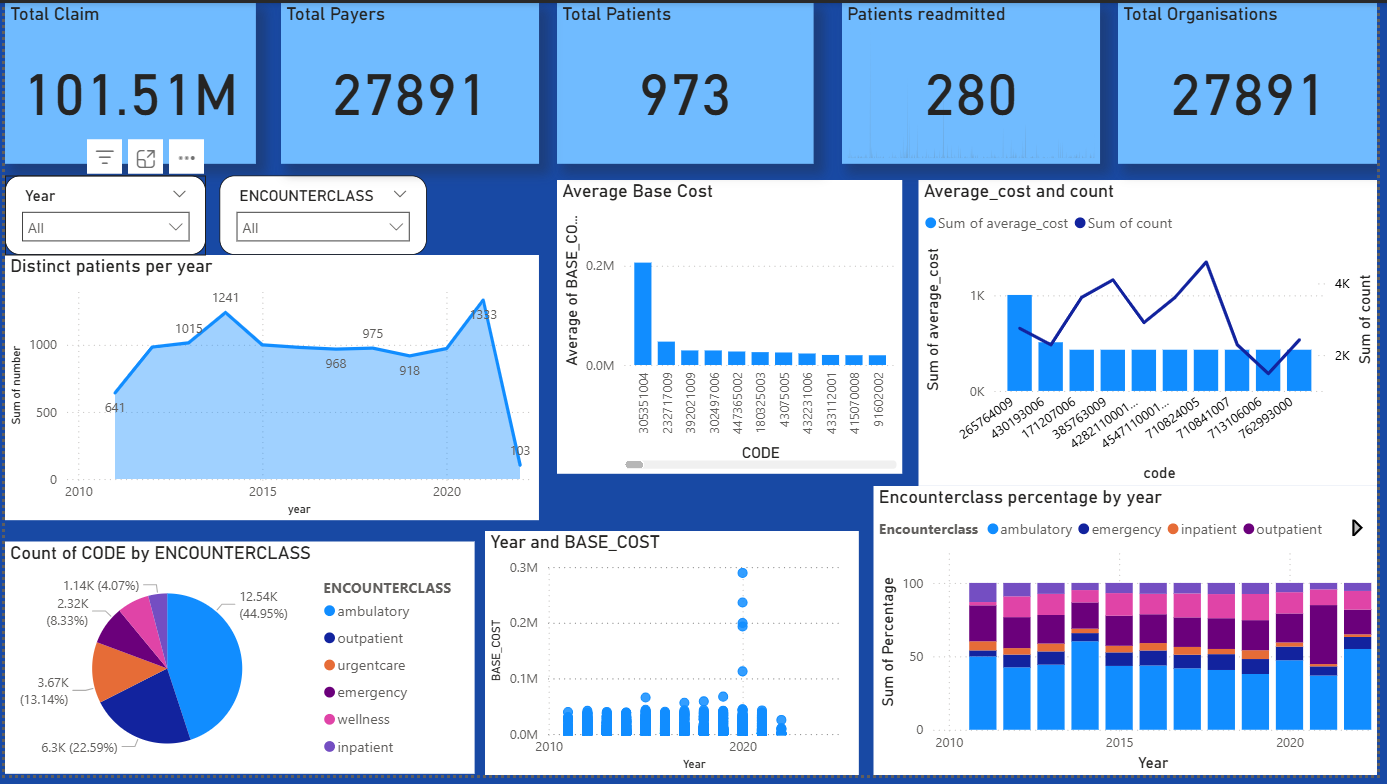

The page's visual inventory and layout, read from the dashboard file:
{"tool":"powerbi","page":{"name":"Page 1","canvas":[1280,720],"ordinal":0},"visuals":[{"type":"columnChart","title":"Encounterclass percentage by year","fields":{"Y":["Sum(Query1.Percentage)"],"Category":["Query1.Year"],"Series":["Query1.Encounterclass"]},"box":[810,450.5,470.1,270],"z":0},{"type":"lineStackedColumnComboChart","title":"Average_cost and count ","fields":{"Category":["Query3.code"],"Y2":["Sum(Query3.count)"],"Y":["Sum(Query3.average_cost)"]},"box":[852,165.1,428.1,285.4],"z":1000},{"type":"areaChart","title":"Distinct patients per year","fields":{"Y":["Sum(Query4.number)"],"Category":["Query4.year"]},"box":[0,235,498,247.6],"z":2000},{"type":"kpi","title":"Patients readmitted","fields":{"Indicator":["Sum(Query5.readmin_count)"],"TrendLine":["Query5.Patient_ID"]},"box":[780.6,0,240.6,149.7],"z":3000},{"type":"pieChart","title":"Encounters by Encounterclass","fields":{"Category":["encounters.ENCOUNTERCLASS"],"Y":["CountNonNull(encounters.CODE)"]},"box":[0,502.2,437.9,216.8],"z":4000},{"type":"kpi","title":"Total Claim","fields":{"Indicator":["Sum(encounters.TOTAL_CLAIM_COST)"],"TrendLine":["encounters.STOP.Variation.Date Hierarchy.Year"]},"box":[0,0,233.7,150],"z":5000},{"type":"scatterChart","fields":{"Y":["procedures.BASE_COST"],"X":["procedures.START.Variation.Date Hierarchy.Year","procedures.START.Variation.Date Hierarchy.Quarter","procedures.START.Variation.Date Hierarchy.Month","procedures.START.Variation.Date Hierarchy.Day"]},"box":[447.7,492.4,348.3,228],"z":6000},{"type":"slicer","fields":{"Values":["encounters.ENCOUNTERCLASS"]},"box":[200.1,160.9,193.1,74.1],"z":7000},{"type":"slicer","fields":{"Values":["procedures.START.Variation.Date Hierarchy.Year"]},"box":[0,160.9,187.5,74.1],"z":8000},{"type":"clusteredColumnChart","title":"Average Base Cost","fields":{"Y":["Avg(procedures.BASE_COST)"],"Category":["procedures.CODE"]},"box":[514.8,165.1,321.8,274.2],"z":9000},{"type":"kpi","title":"Total Patients","fields":{"Indicator":["Count(patients.Id)"],"TrendLine":["procedures.START.Variation.Date Hierarchy.Year"]},"box":[514.8,0,239.2,149.7],"z":10000},{"type":"kpi","title":"Total Payers","fields":{"Indicator":["CountNonNull(encounters.PAYER)"],"TrendLine":["procedures.START.Variation.Date Hierarchy.Year"]},"box":[257.4,0,240.6,149.7],"z":11000},{"type":"kpi","title":"Total Organisations","fields":{"Indicator":["CountNonNull(encounters.ORGANIZATION)"],"TrendLine":["procedures.START.Variation.Date Hierarchy.Year"]},"box":[1037.4,0,243.2,150],"z":12000}]}

Visuals, with their boxes in screenshot pixels (x1, y1, x2, y2), scaled from the page's 1280x720 canvas onto the 1387x784 screenshot:
"Encounterclass percentage by year" columnChart: [x1=878, y1=491, x2=1386, y2=783]
"Average_cost and count " lineStackedColumnComboChart: [x1=923, y1=180, x2=1386, y2=491]
"Distinct patients per year" areaChart: [x1=0, y1=256, x2=540, y2=525]
"Patients readmitted" kpi: [x1=846, y1=0, x2=1107, y2=163]
"Encounters by Encounterclass" pieChart: [x1=0, y1=547, x2=475, y2=783]
"Total Claim" kpi: [x1=0, y1=0, x2=253, y2=163]
scatterChart - procedures.BASE_COST x procedures.START.Variation.Date Hierarchy.Year: [x1=485, y1=536, x2=863, y2=783]
slicer - encounters.ENCOUNTERCLASS: [x1=217, y1=175, x2=426, y2=256]
slicer - procedures.START.Variation.Date Hierarchy.Year: [x1=0, y1=175, x2=203, y2=256]
"Average Base Cost" clusteredColumnChart: [x1=558, y1=180, x2=907, y2=478]
"Total Patients" kpi: [x1=558, y1=0, x2=817, y2=163]
"Total Payers" kpi: [x1=279, y1=0, x2=540, y2=163]
"Total Organisations" kpi: [x1=1124, y1=0, x2=1386, y2=163]
